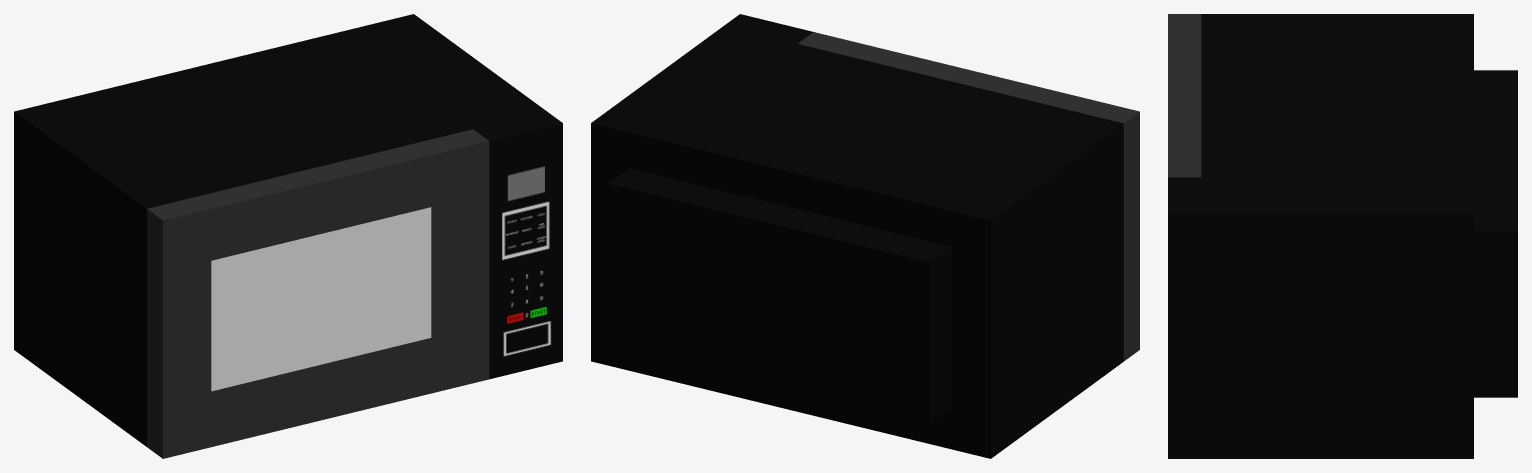
The model's file is Microwave.fbx.
3 views of the same model, side by side, from view 1: azimuth 30°, elevation 25°; view 2: azimuth 150°, elevation 25°; view 3: azimuth 270°, elevation 25° (orthographic). The views are drawn at different scales.
Parts seen in each view (by area): view 1: Body, Door, Glass, Button Pad; view 2: Body, Back, Door, Button Pad; view 3: Body, Back, Button Pad, Door.
Part boxes in pixels (x1,y1,x2,y2): Body: (14, 14, 546, 446); Door: (147, 129, 489, 458); Glass: (211, 207, 431, 391); Button Pad: (473, 111, 562, 379); Body: (591, 26, 1123, 458); Back: (608, 168, 951, 424); Door: (798, 32, 1139, 361); Button Pad: (724, 14, 813, 43); Body: (1201, 14, 1473, 458); Back: (1474, 70, 1517, 397); Button Pad: (1168, 177, 1201, 458); Door: (1168, 14, 1201, 177).
Size of the model in its own units: 545 by 320 by 402.
